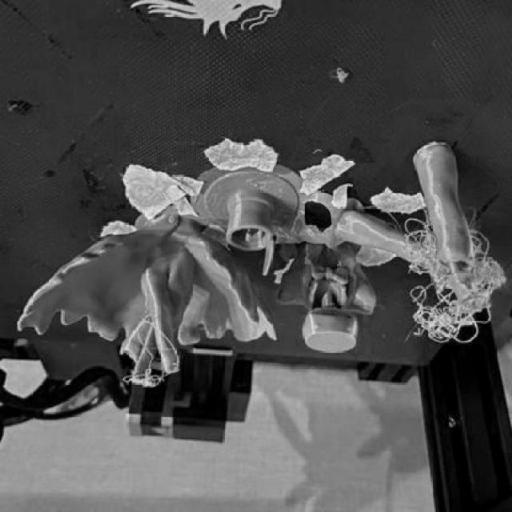spaghetti_and_stringing: (397, 216, 506, 346), (117, 317, 183, 392)
